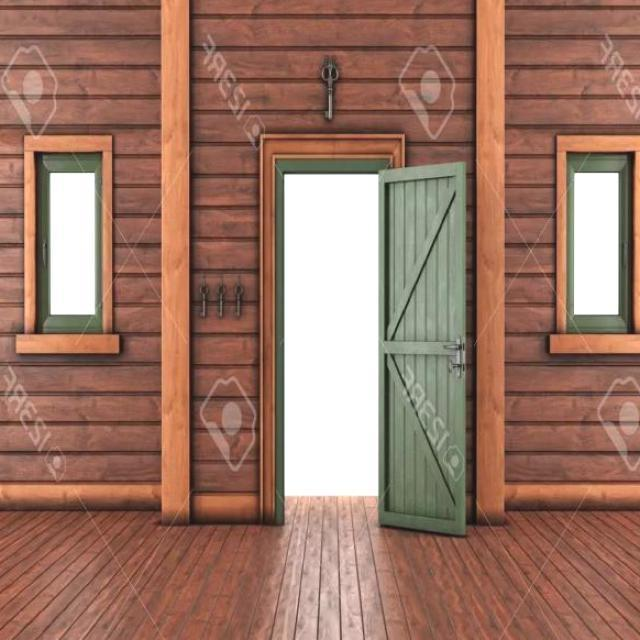door: (376, 160, 467, 536)
